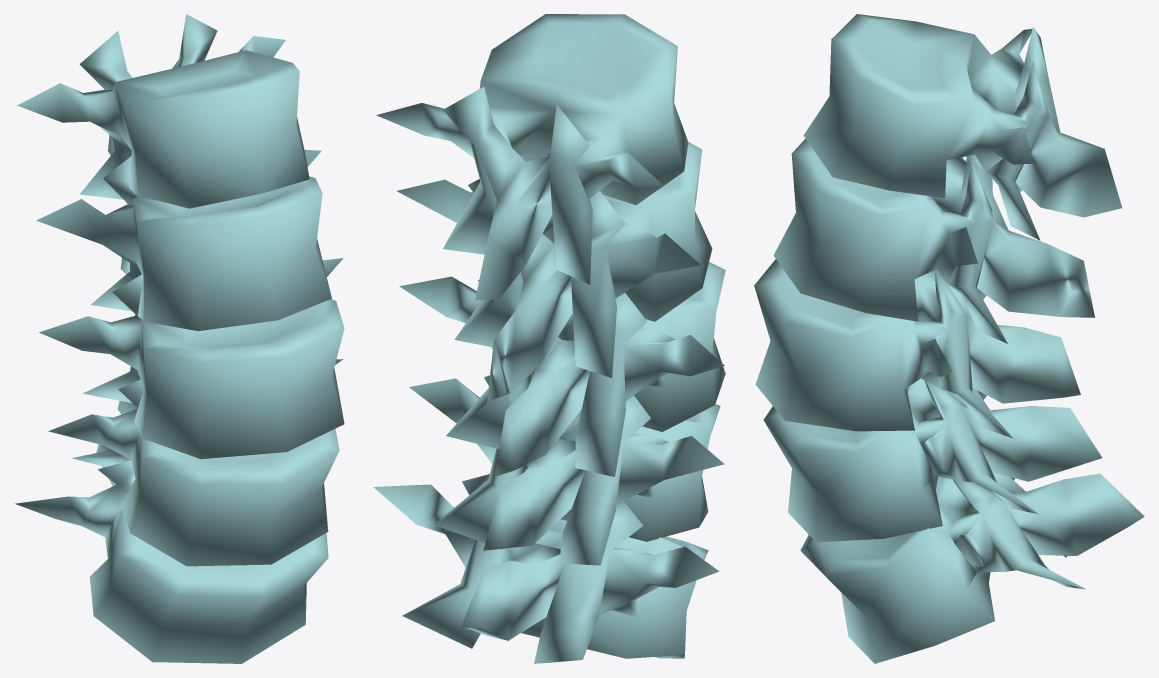
Rendered from skelly_lumbar_spine.fbx.
3 views of the same model, side by side, from view 1: azimuth 30°, elevation 25°; view 2: azimuth 150°, elevation 25°; view 3: azimuth 270°, elevation 25° (orthographic). The views are drawn at different scales.
Parts seen in each view (by area): view 1: Skelly_spine.001; view 2: Skelly_spine.001; view 3: Skelly_spine.001.
Boxes of the visible parts, x1=… form: Skelly_spine.001: x1=15, y1=14, x2=344, y2=663; Skelly_spine.001: x1=373, y1=14, x2=725, y2=663; Skelly_spine.001: x1=754, y1=14, x2=1144, y2=663.
Size of the model in its own units: 9.46 by 16.17 by 9.58.
